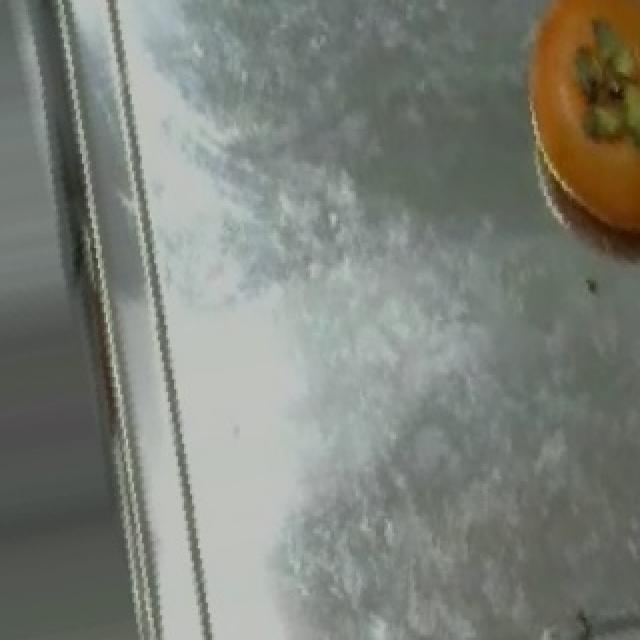Fruit: (496, 2, 640, 266)
